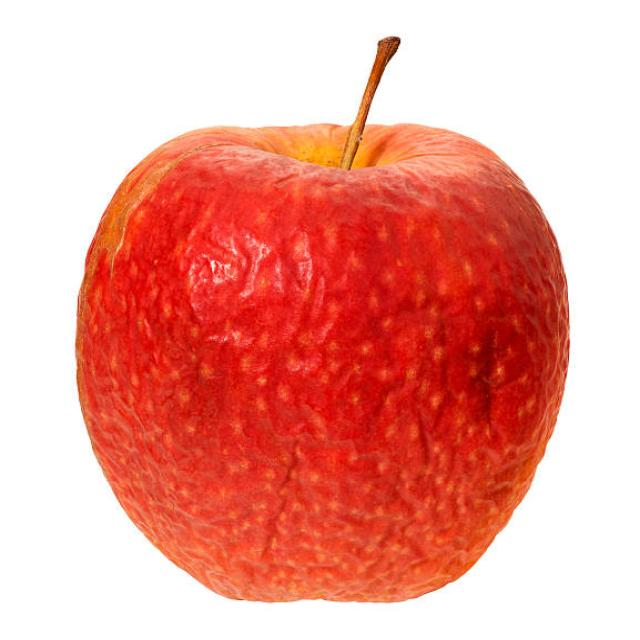overripe: (68, 117, 575, 607)
